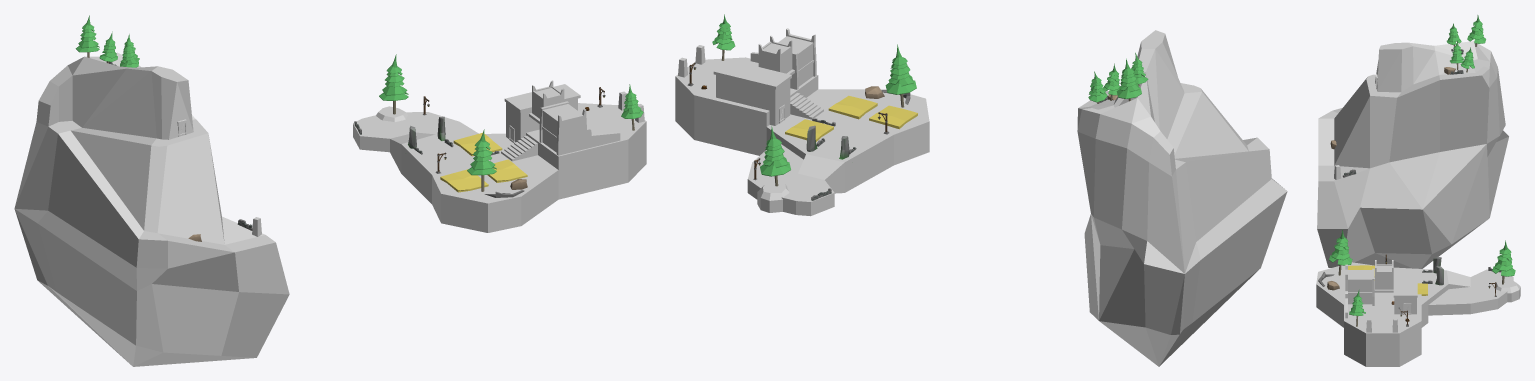
Rendered from SM_Islands.fbx.
3 views of the same model, side by side, from view 1: azimuth 30°, elevation 25°; view 2: azimuth 150°, elevation 25°; view 3: azimuth 270°, elevation 25° (orthographic). The views are drawn at different scales.
Visible parts, largest first — view 1: Mountain.001, Plane.001, Cube.042, Cube.029, Pine.009, Pine.006, wheatField.005, Cube.028, Cube.025, wheatField.004, Cube.041, Cube.034; view 2: Mountain.001, Plane.001, Cube.029, Cube.028, Pine.009, Pine.006, Cube.034, Cube.015, wheatField.004, wheatField.005, Cube.025, wheatField.003 (+1 smaller); view 3: Mountain.001, Plane.001, Cube.028, Pine.009, Pine.006, Cube.041, Cube.034, Cube.015, Cube.029, Pine.013, Pine.003, Windowstibetean.002 (+4 smaller).
Part boxes in pixels (<box>): Mountain.001: <box>14,52,289,366</box>; Plane.001: <box>353,103,646,232</box>; Cube.042: <box>556,108,620,155</box>; Cube.029: <box>506,98,577,142</box>; Pine.009: <box>467,129,496,191</box>; Pine.006: <box>379,54,408,114</box>; wheatField.005: <box>440,169,488,192</box>; Cube.028: <box>504,84,580,112</box>; Cube.025: <box>501,135,537,161</box>; wheatField.004: <box>487,159,527,182</box>; Cube.041: <box>529,104,581,139</box>; Cube.034: <box>532,88,564,118</box>; Mountain.001: <box>1077,30,1287,366</box>; Plane.001: <box>675,57,929,216</box>; Cube.029: <box>716,75,790,125</box>; Cube.028: <box>713,60,791,89</box>; Pine.009: <box>885,44,916,107</box>; Pine.006: <box>760,126,790,186</box>; Cube.034: <box>758,43,792,73</box>; Cube.015: <box>757,182,789,212</box>; wheatField.004: <box>828,95,877,119</box>; wheatField.005: <box>869,105,917,129</box>; Cube.025: <box>790,93,823,119</box>; wheatField.003: <box>785,119,833,141</box>; Mountain.001: <box>1317,41,1508,268</box>; Plane.001: <box>1316,262,1513,366</box>; Cube.028: <box>1393,272,1417,297</box>; Pine.009: <box>1329,229,1352,275</box>; Pine.006: <box>1492,240,1515,284</box>; Cube.041: <box>1348,270,1393,304</box>; Cube.034: <box>1375,265,1393,289</box>; Cube.015: <box>1496,280,1520,302</box>; Cube.029: <box>1394,297,1416,314</box>; Pine.013: <box>1467,15,1485,46</box>; Pine.003: <box>1349,289,1365,326</box>; Windowstibetean.002: <box>1348,282,1371,290</box>.
Bounding box in the file's own units: 8518 × 4832 × 3513.
